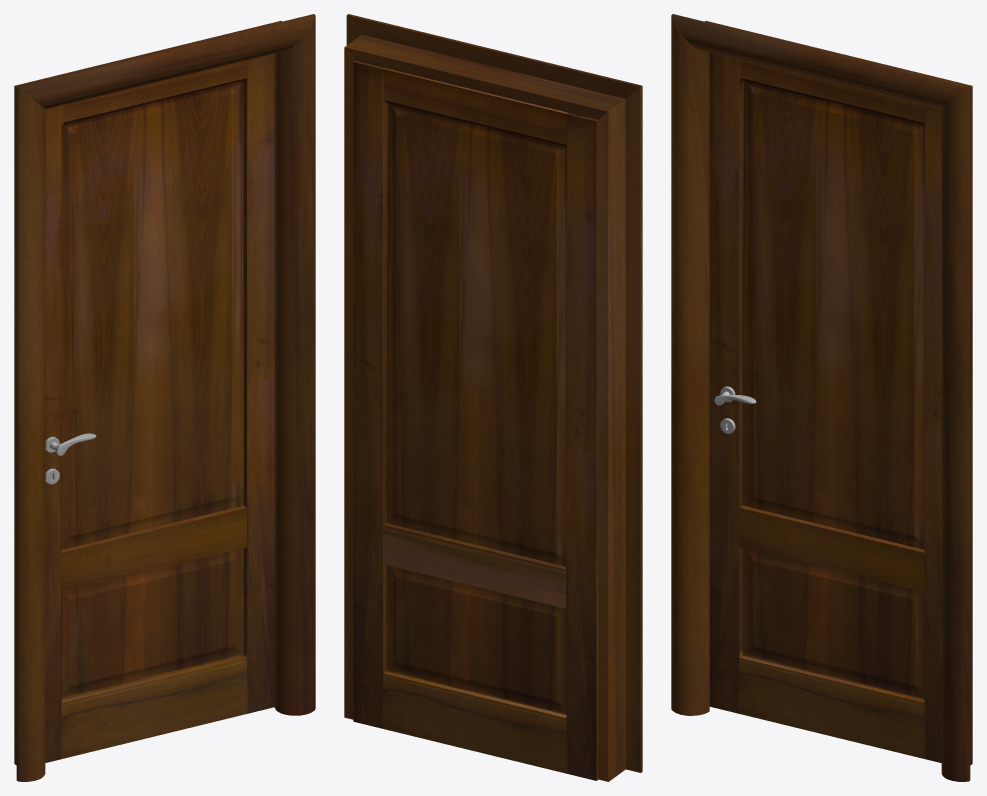
3 renders of one model, left to right at view 1: azimuth 30°, elevation 25°; view 2: azimuth 150°, elevation 25°; view 3: azimuth 330°, elevation 25°, orthographic.
Visible parts, largest first — view 1: Object020_Porta_0, Maniglia05_H198; view 2: Object020_Porta_0, Object015_Porta_0; view 3: Object020_Porta_0, Object015_Porta_0, Maniglia05_H198.
Boxes of the visible parts, <box> form: Object020_Porta_0: <box>14,14,315,781</box>; Maniglia05_H198: <box>45,433,96,484</box>; Object020_Porta_0: <box>344,14,642,781</box>; Object015_Porta_0: <box>596,121,596,780</box>; Object020_Porta_0: <box>671,14,972,781</box>; Object015_Porta_0: <box>739,80,742,657</box>; Maniglia05_H198: <box>714,386,756,433</box>.
Size of the model in its own units: 98 by 219 by 13.93.
2 materials, 2 textured.
